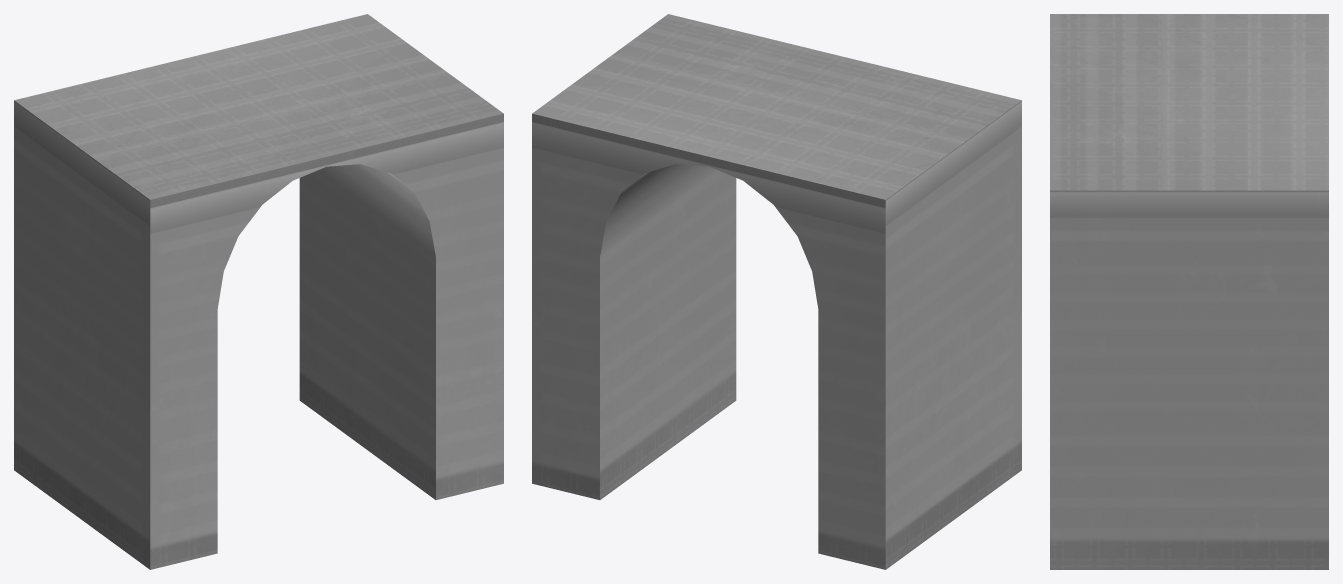
Rendered from arch.fbx.
3 views of the same model, side by side, from view 1: azimuth 30°, elevation 25°; view 2: azimuth 150°, elevation 25°; view 3: azimuth 270°, elevation 25° (orthographic). The views are drawn at different scales.
Visible parts, largest first — view 1: pCube65; view 2: pCube65; view 3: pCube65.
Boxes of the visible parts, box(x1,y1,x2,y2) form: pCube65: box(14, 14, 503, 569); pCube65: box(532, 14, 1021, 569); pCube65: box(1050, 14, 1328, 569).
Size of the model in its own units: 1200 by 1200 by 800.
